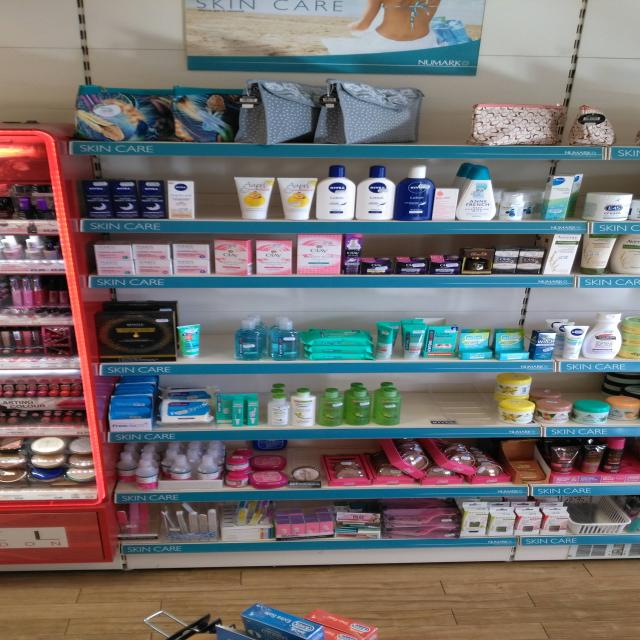void: (445, 374, 494, 438), (432, 78, 462, 158), (576, 498, 622, 544), (409, 375, 441, 440), (196, 165, 226, 232), (206, 304, 233, 376), (524, 172, 542, 236)
